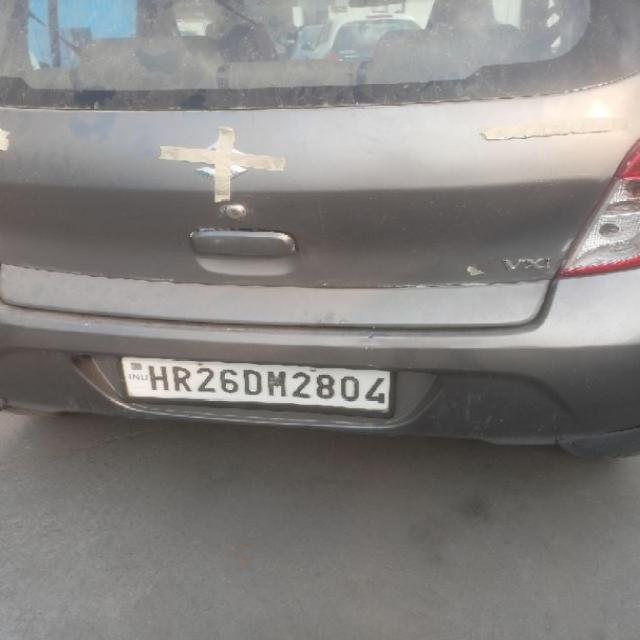license_plate: (117, 355, 396, 417)
